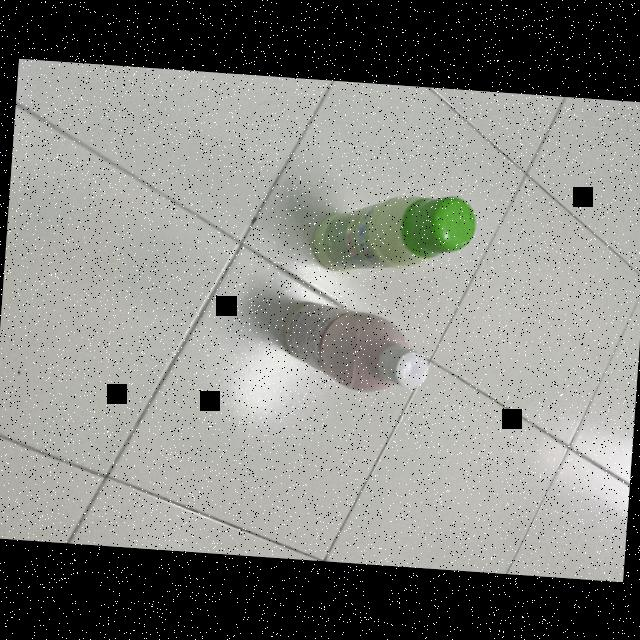chemical_plastic_bottle: (272, 295, 438, 402), (310, 181, 481, 281)
